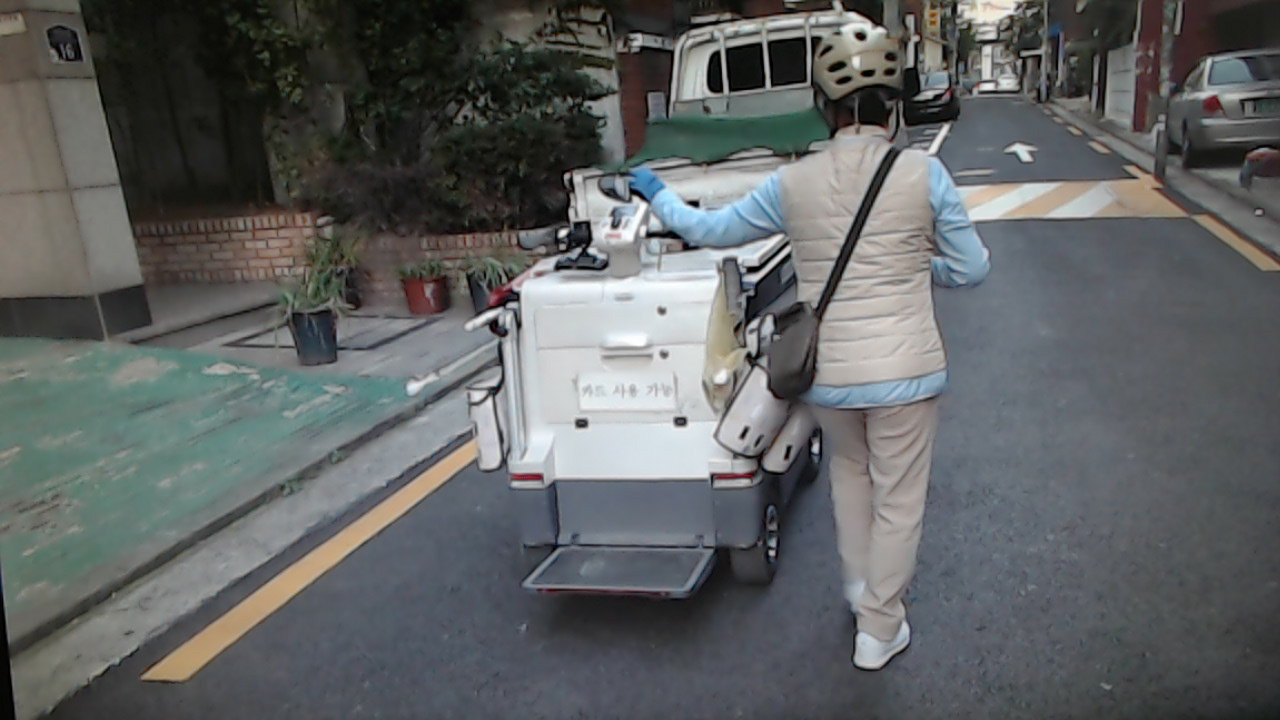Yakurut: (629, 19, 1005, 680)
